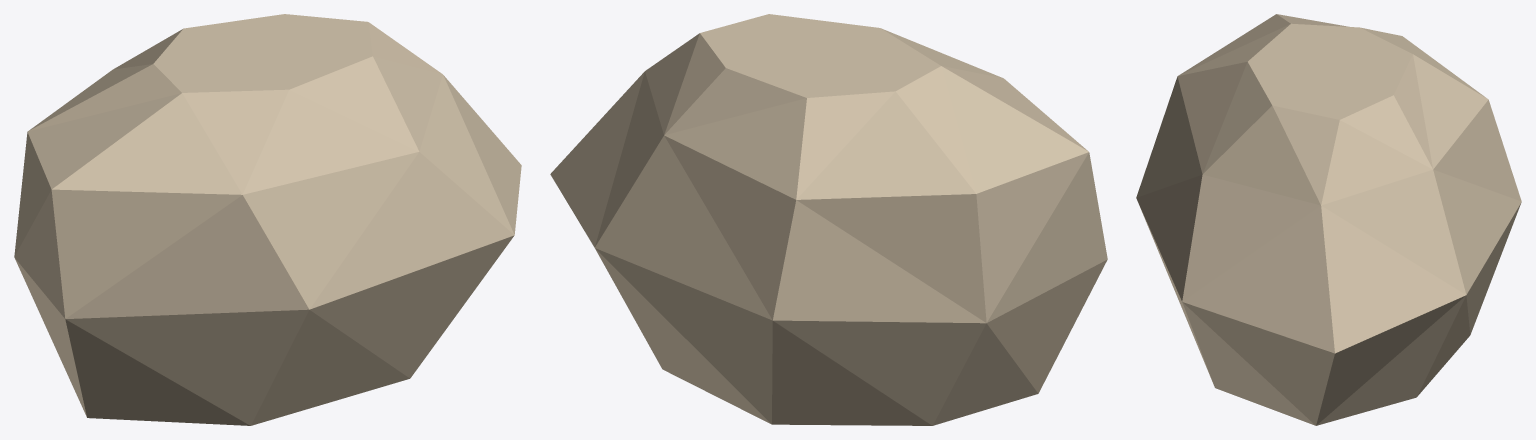
File: boulder_big_b.fbx
The picture shows the model from 3 angles, left to right: view 1: azimuth 30°, elevation 25°; view 2: azimuth 150°, elevation 25°; view 3: azimuth 270°, elevation 25°; orthographic projection. The views are drawn at different scales.
Parts seen in each view (by area): view 1: boulder_big_b; view 2: boulder_big_b; view 3: boulder_big_b.
Boxes of the visible parts, x1,y1,x2,y2 form: boulder_big_b: (14,14,521,425); boulder_big_b: (550,14,1107,425); boulder_big_b: (1136,14,1521,425).
Bounding box in the file's own units: 7 × 4 × 5.
